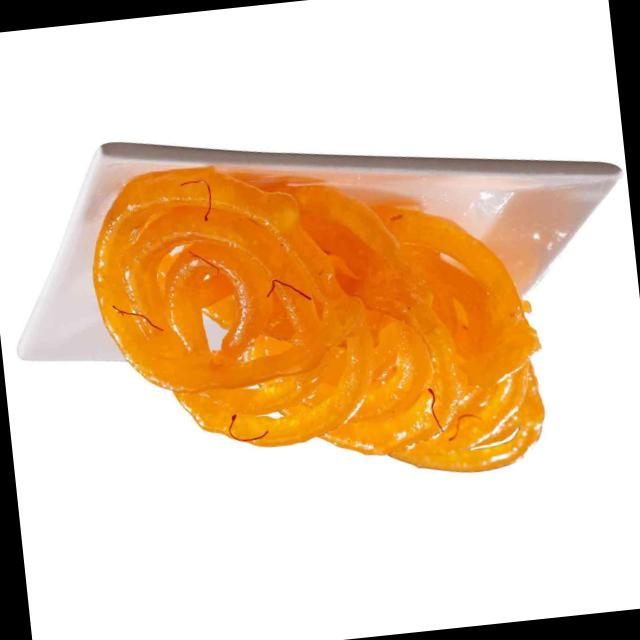jalebi: (40, 130, 598, 510)
